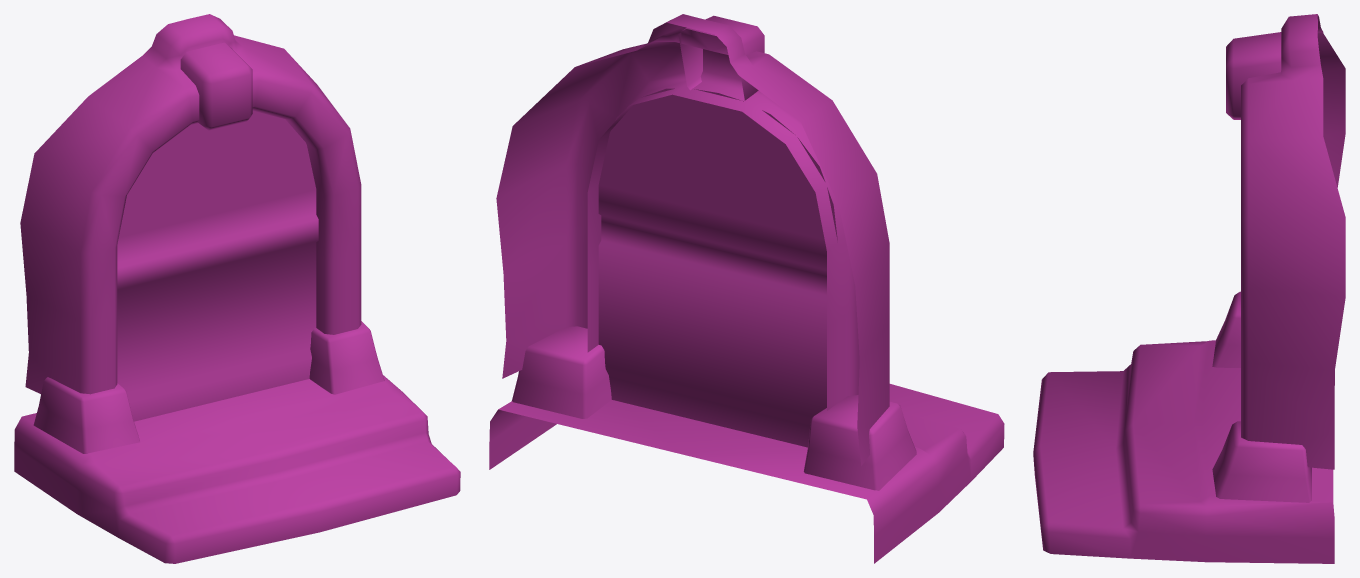
The model's file is SM_SmallGate.FBX.
3 renders of one model, left to right at view 1: azimuth 30°, elevation 25°; view 2: azimuth 150°, elevation 25°; view 3: azimuth 270°, elevation 25°, orthographic. The views are drawn at different scales.
Visible parts, largest first — view 1: Object035; view 2: Object035; view 3: Object035.
Boxes of the visible parts, bbox=[...] form: Object035: bbox=[14, 14, 460, 563]; Object035: bbox=[489, 14, 1004, 563]; Object035: bbox=[1033, 14, 1345, 563].
Bounding box in the file's own units: 277 × 332 × 209.
